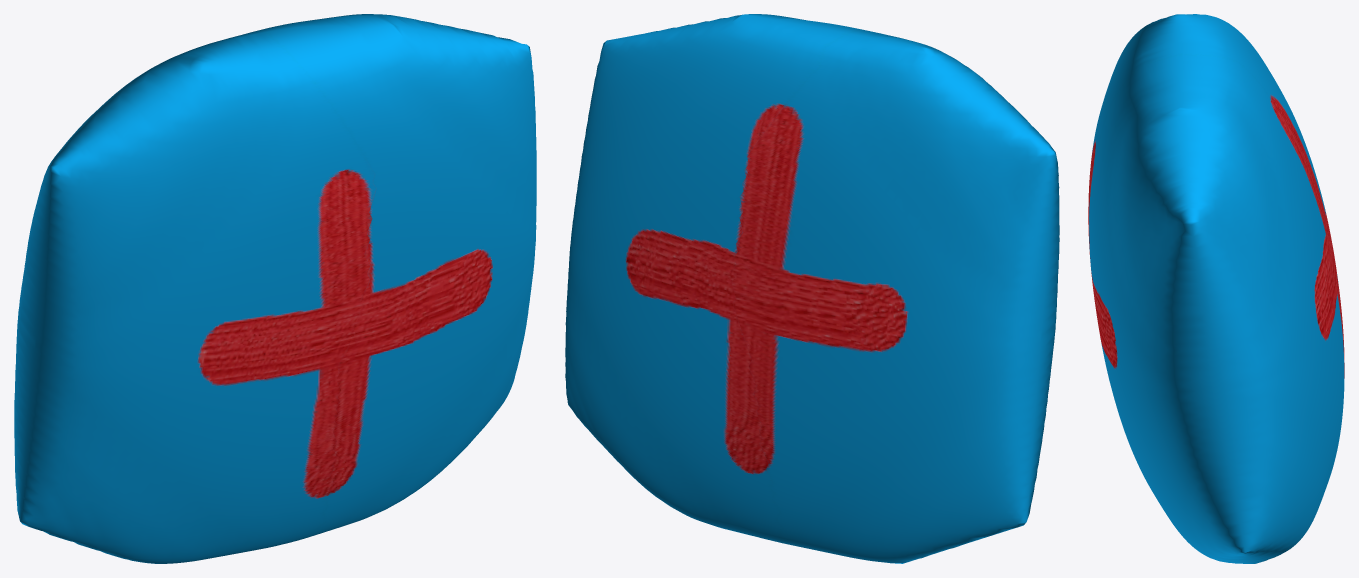
The model's file is hppack.fbx.
3 views of the same model, side by side, from view 1: azimuth 30°, elevation 25°; view 2: azimuth 150°, elevation 25°; view 3: azimuth 270°, elevation 25° (orthographic). The views are drawn at different scales.
Parts seen in each view (by area): view 1: root; view 2: root; view 3: root.
Part boxes in pixels (bbox=[...]): root: bbox=[14, 14, 536, 563]; root: bbox=[565, 14, 1059, 563]; root: bbox=[1088, 14, 1344, 563].
Bounding box in the file's own units: 0.3327 × 0.3382 × 0.1694.
1 material, 1 textured.
